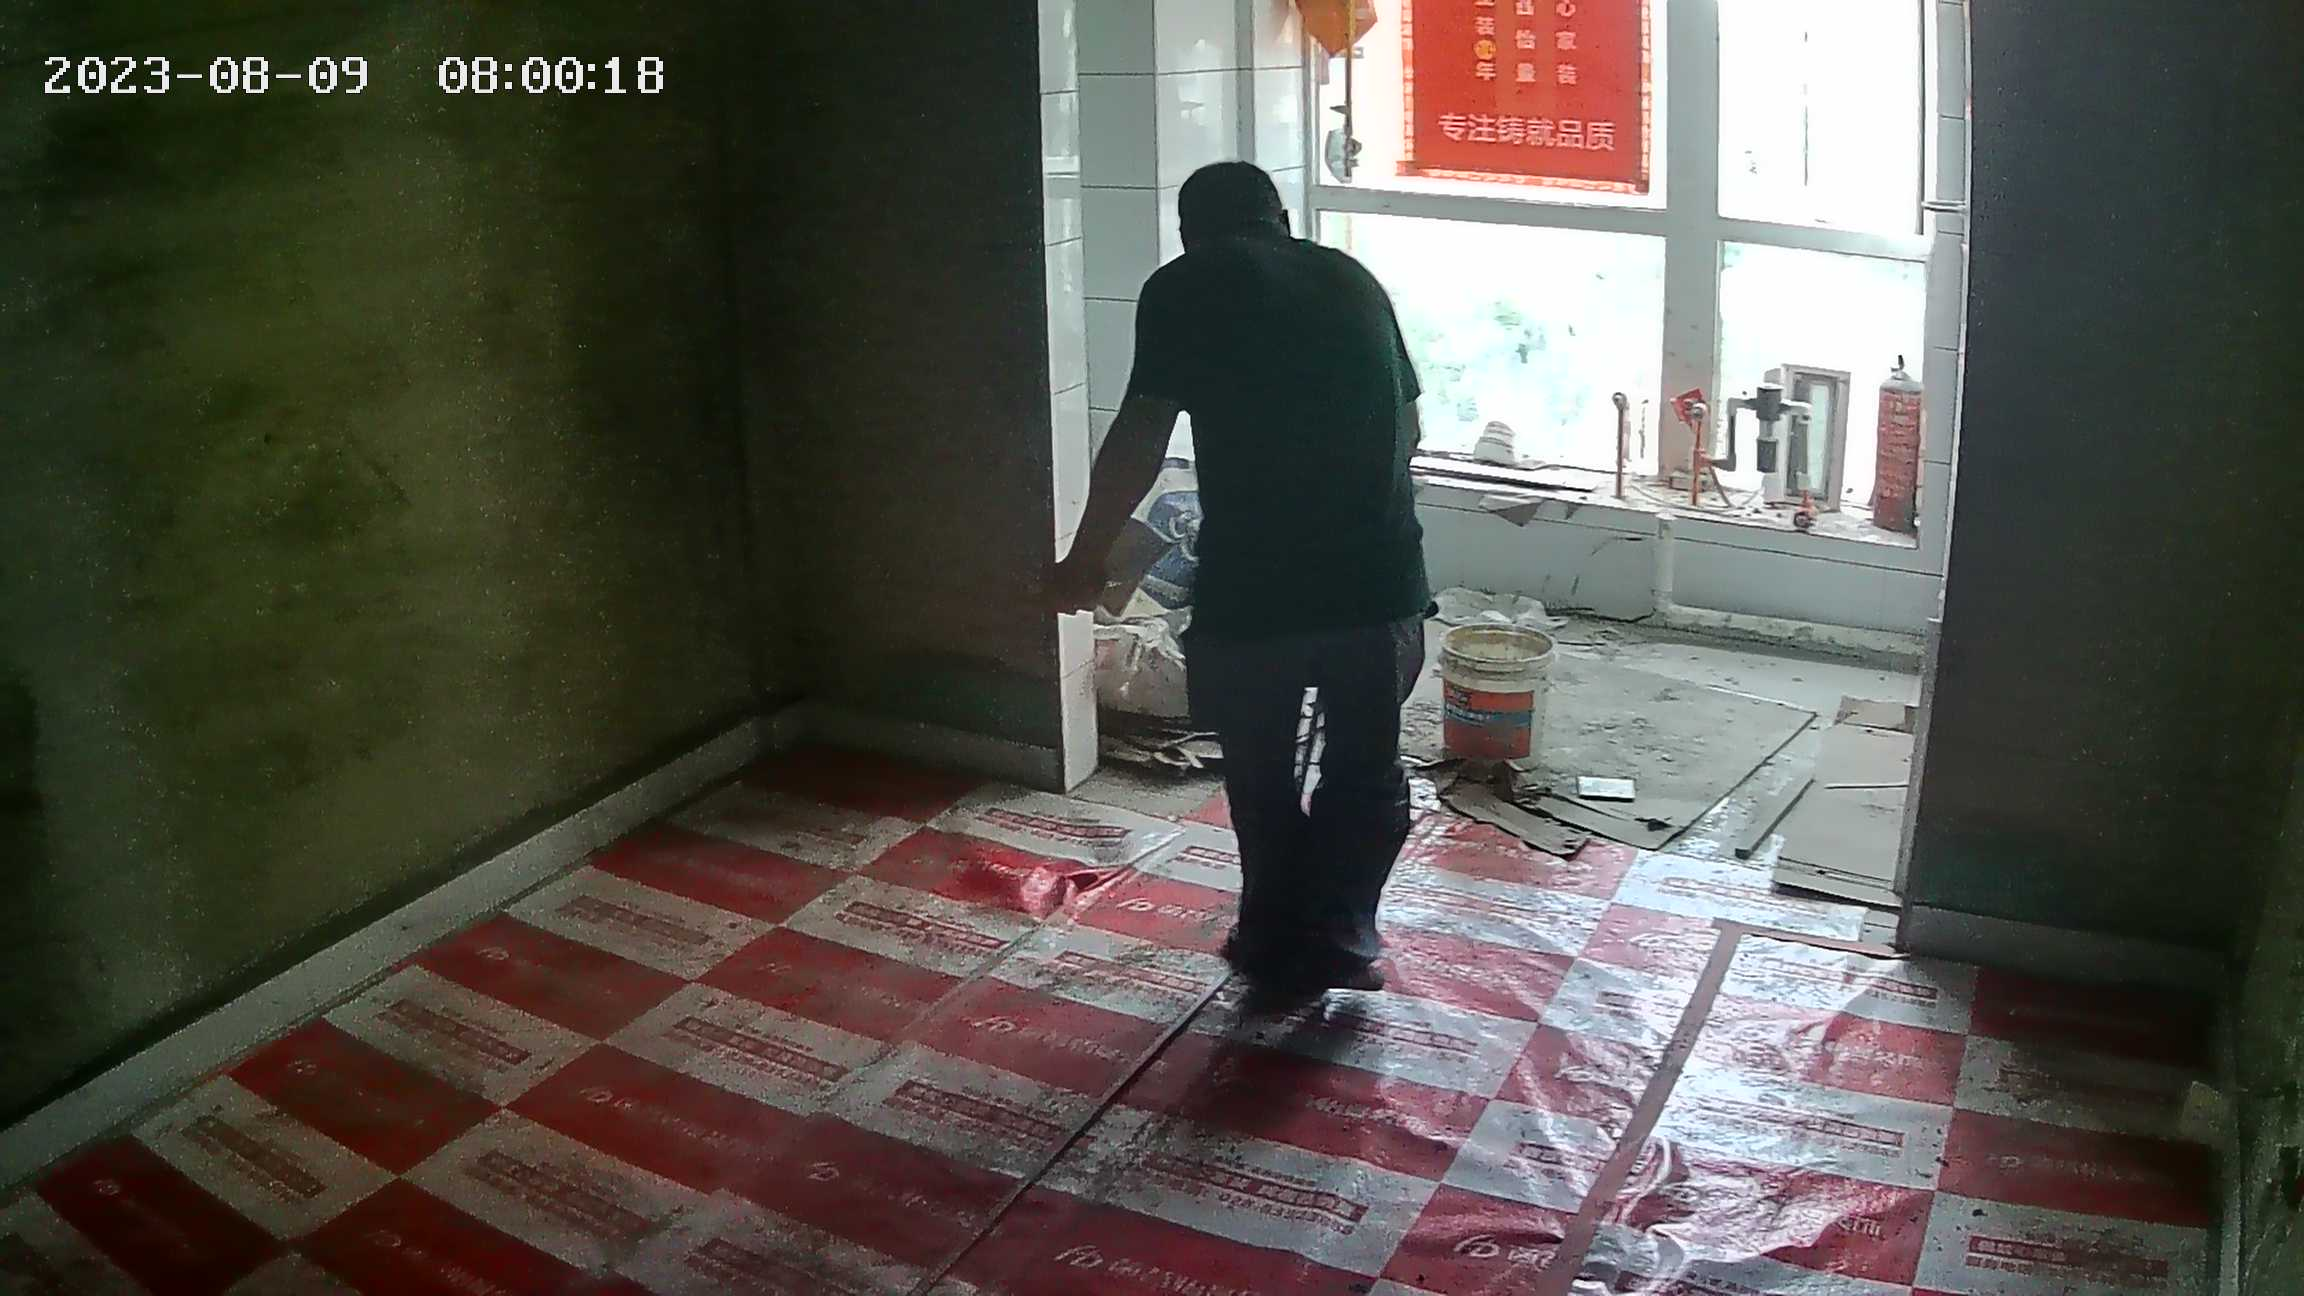people: (1025, 151, 1458, 997)
window: (1254, 8, 1948, 543)
